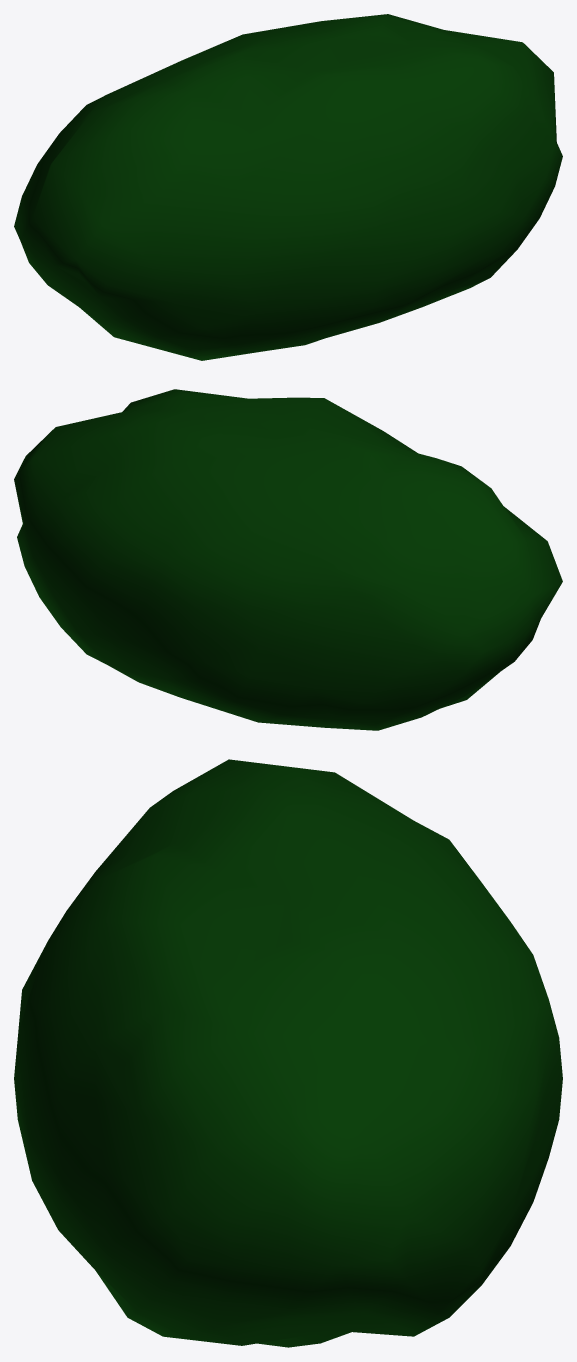
File: _ush.fbx
The picture shows the model from 3 angles, top to bottom: view 1: azimuth 30°, elevation 25°; view 2: azimuth 150°, elevation 25°; view 3: azimuth 270°, elevation 25°; orthographic projection. The views are drawn at different scales.
Parts seen in each view (by area): view 1: polySurface18; view 2: polySurface18; view 3: polySurface18.
Part boxes in pixels (<box>): polySurface18: <box>14,14,562,360</box>; polySurface18: <box>14,389,562,730</box>; polySurface18: <box>14,759,562,1347</box>.
Size of the model in its own units: 136 by 74.97 by 81.57.
